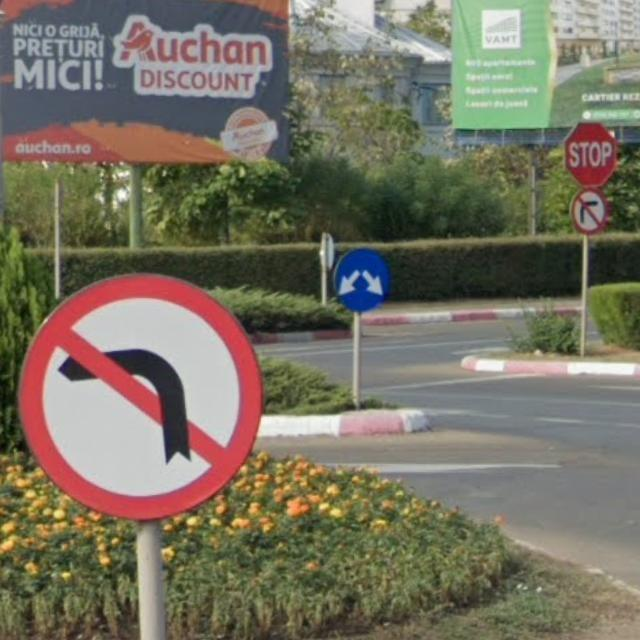prio_stop: (563, 121, 619, 189)
